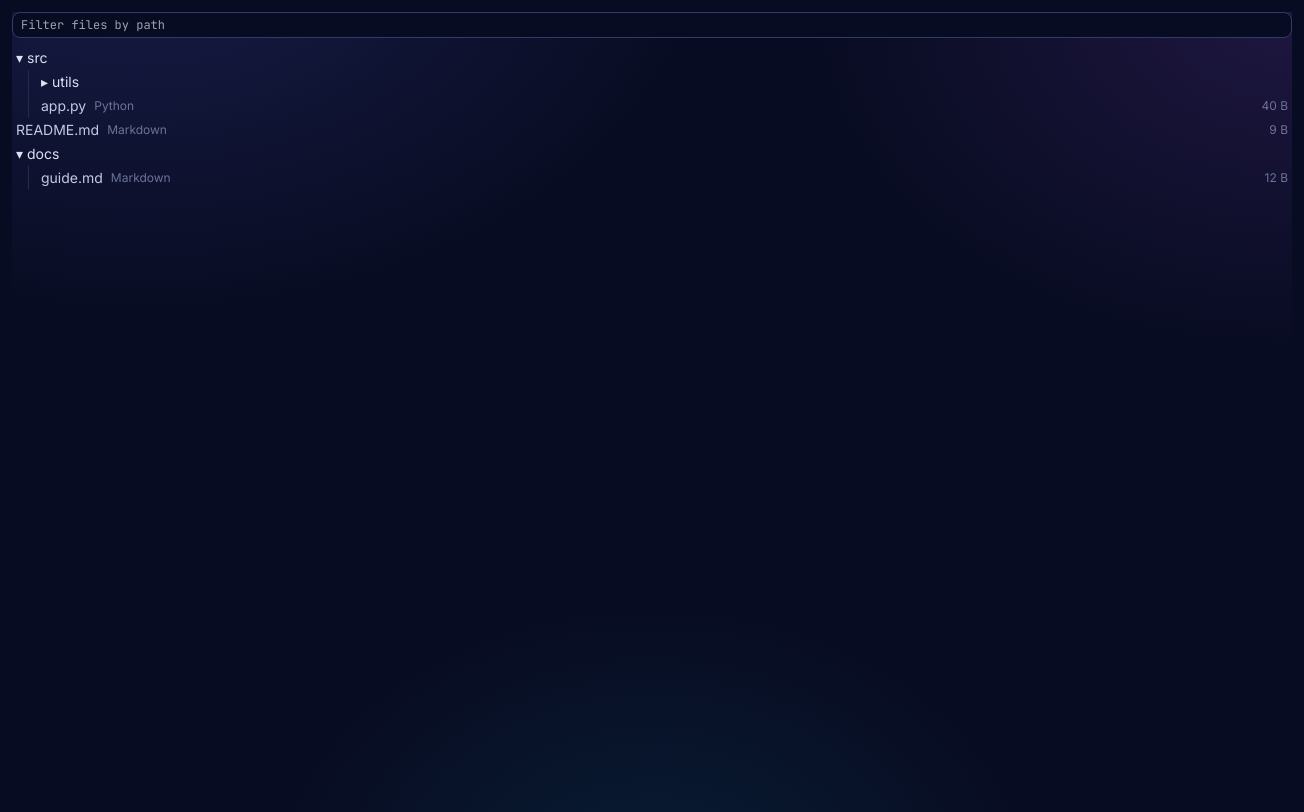
Test case: File filter matching › lists files whose path contains the text, ignoring case, in tree order, and hides the tree
The width and height of the screenshot is (1304, 812).
Type "py" into the search field labelled "Filter files by path" at (652, 25), box [12,12,1292,38]
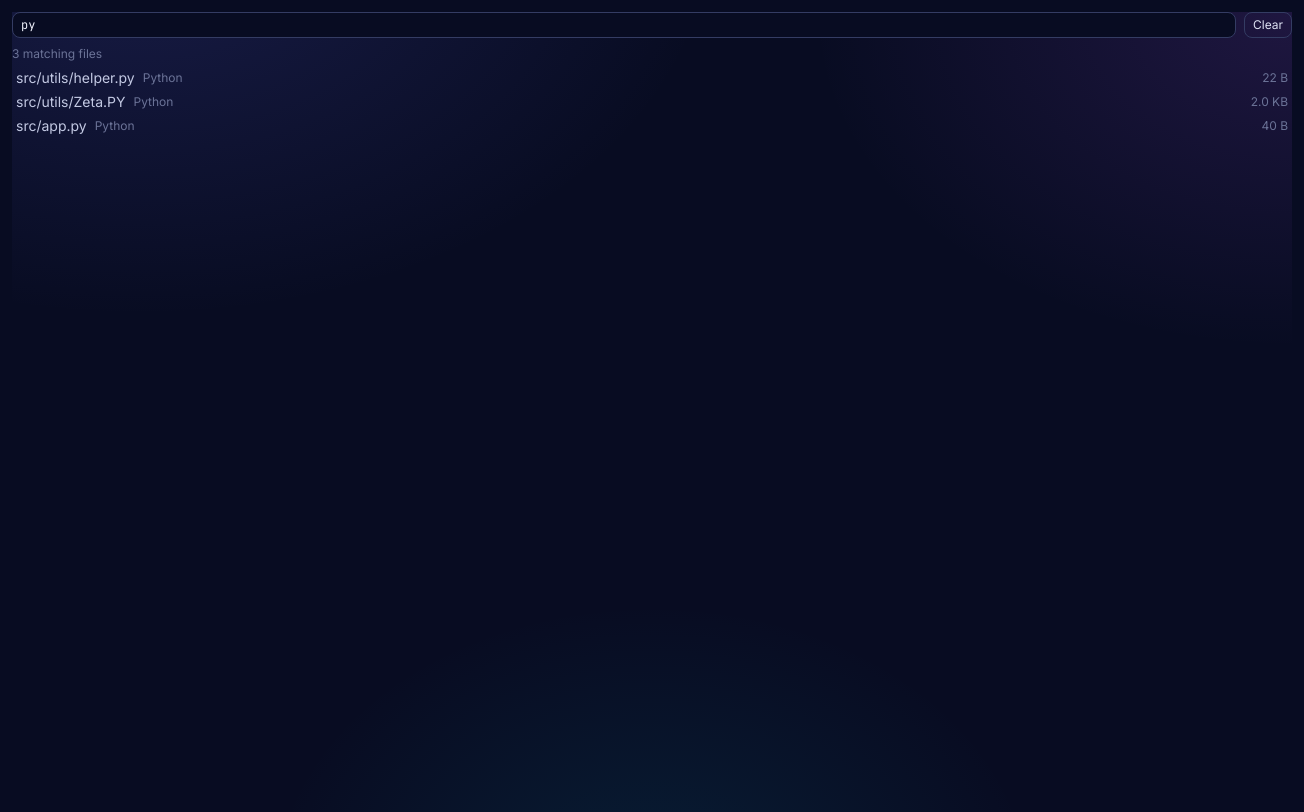
Now the text with test id "file-filter-count" reads "3 matching files", box [12,46,102,61]
